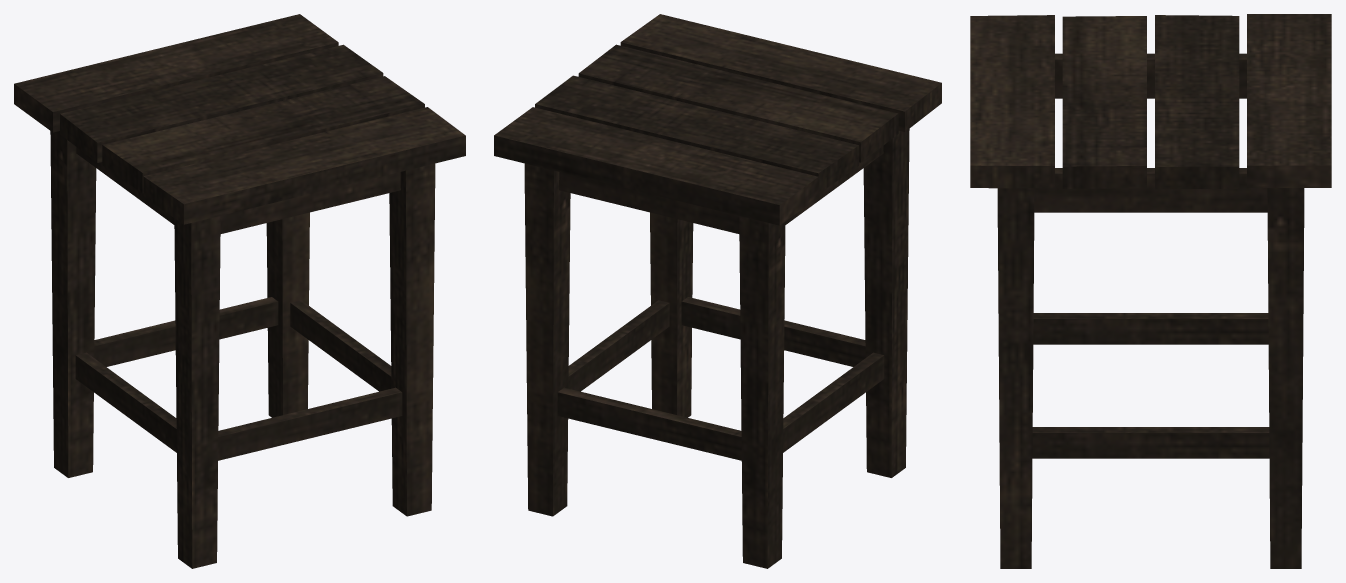
File: chair_mp_1_2.obj
The picture shows the model from 3 angles, left to right: view 1: azimuth 30°, elevation 25°; view 2: azimuth 150°, elevation 25°; view 3: azimuth 270°, elevation 25°; orthographic projection. The views are drawn at different scales.
Visible parts, largest first — view 1: chair_mp_1_2; view 2: chair_mp_1_2; view 3: chair_mp_1_2.
Part boxes in pixels (box(x1,y1,x2,y2)): chair_mp_1_2: box(14, 14, 465, 568); chair_mp_1_2: box(494, 14, 941, 568); chair_mp_1_2: box(970, 14, 1331, 568).
Bounding box in the file's own units: 0.4707 × 0.594 × 0.47.
